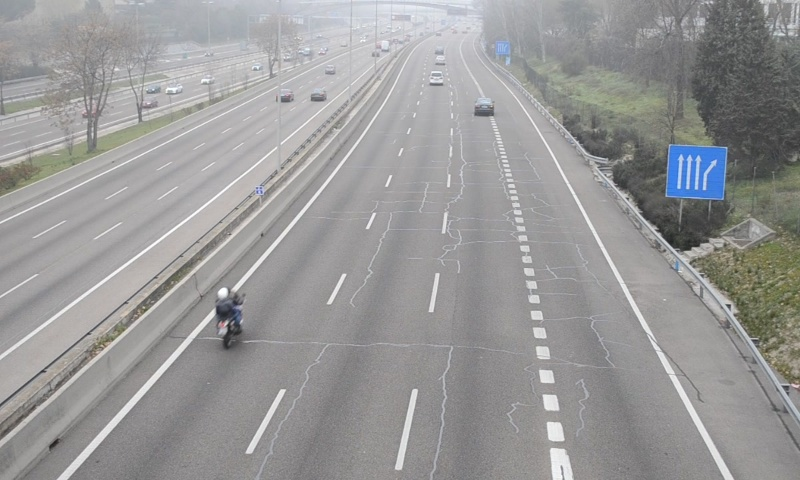car: (473, 96, 494, 116), (428, 71, 444, 86)
motorcycle: (213, 286, 243, 349)
